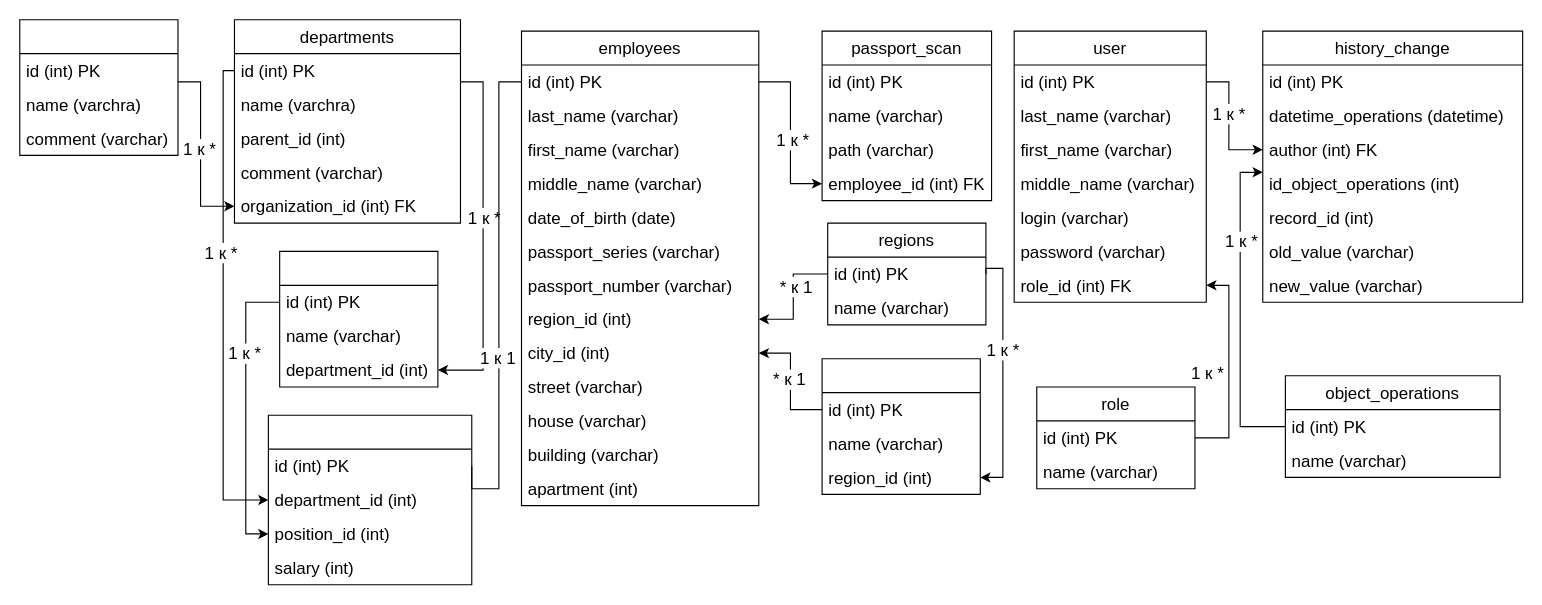
This 1542x605 diagram has some shape labels left out. Each missing label, with the box of its shape:
citys: (821, 358, 980, 494)
employee_details: (267, 414, 472, 585)
organizations: (19, 19, 178, 155)
positions: (279, 250, 438, 387)
